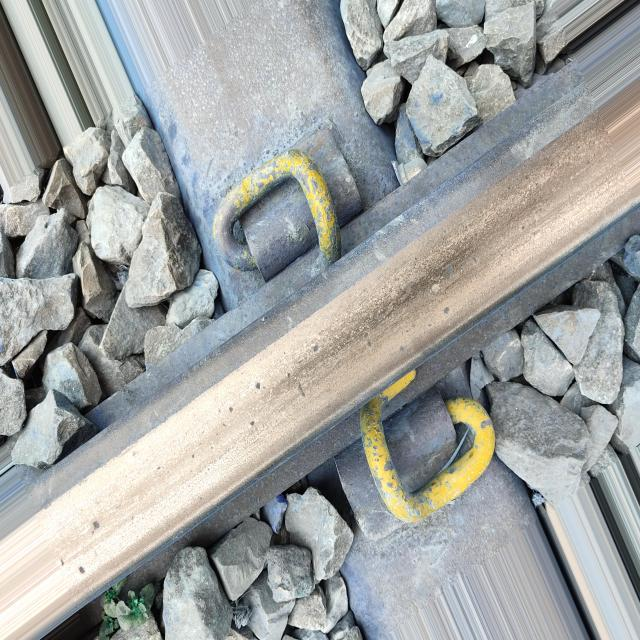Good Fasteners: (315, 346, 509, 570), (206, 122, 382, 290)
